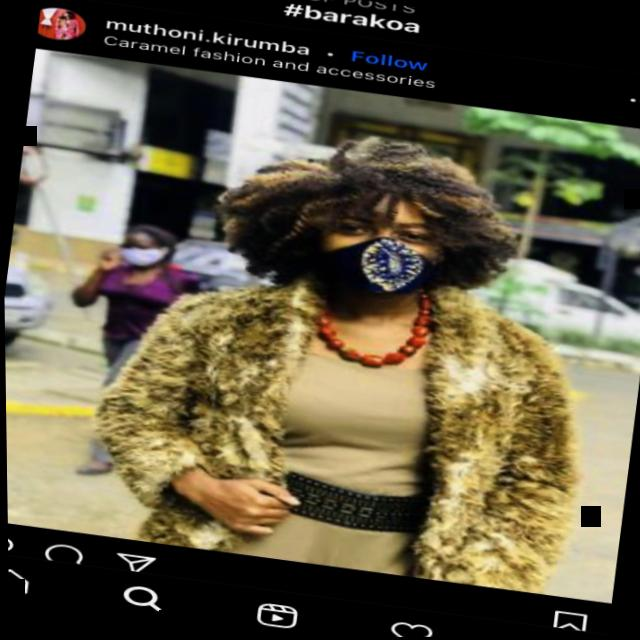Mask: (316, 207, 445, 306), (117, 231, 168, 269)
